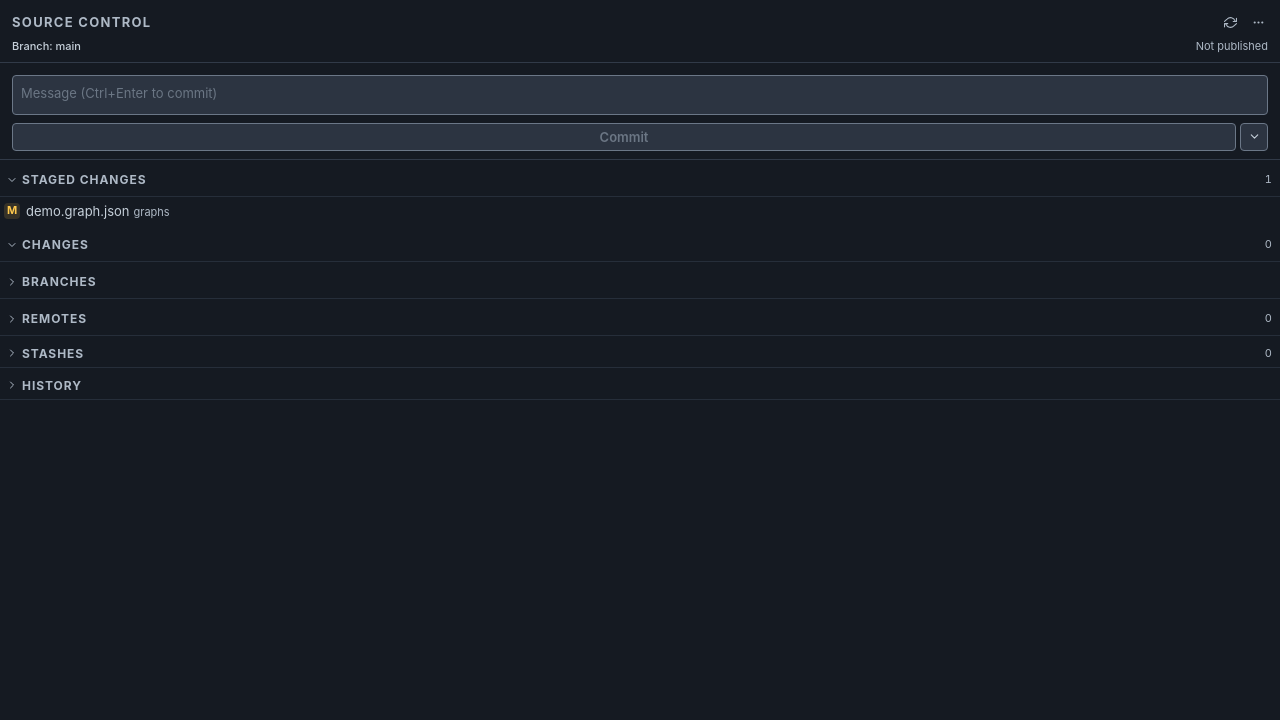
Source Control: refusals › opens the identity form, and saves only the half that was filled in
The image size is (1280, 720).
Type "first commit" into the text box with placeholder "Message (Ctrl+Enter to commit)" at (640, 95), box x1=12 y1=75 x2=1268 y2=115
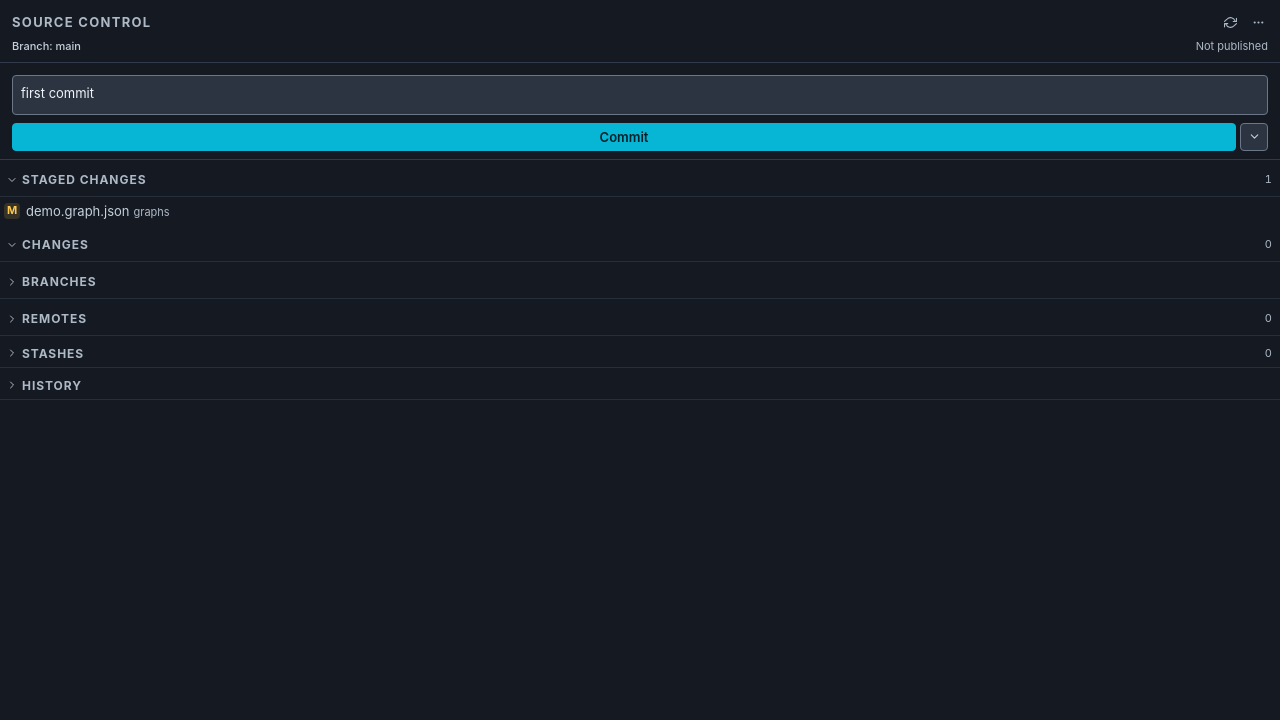
Click the button "Commit" at (624, 137), box x1=12 y1=123 x2=1236 y2=151
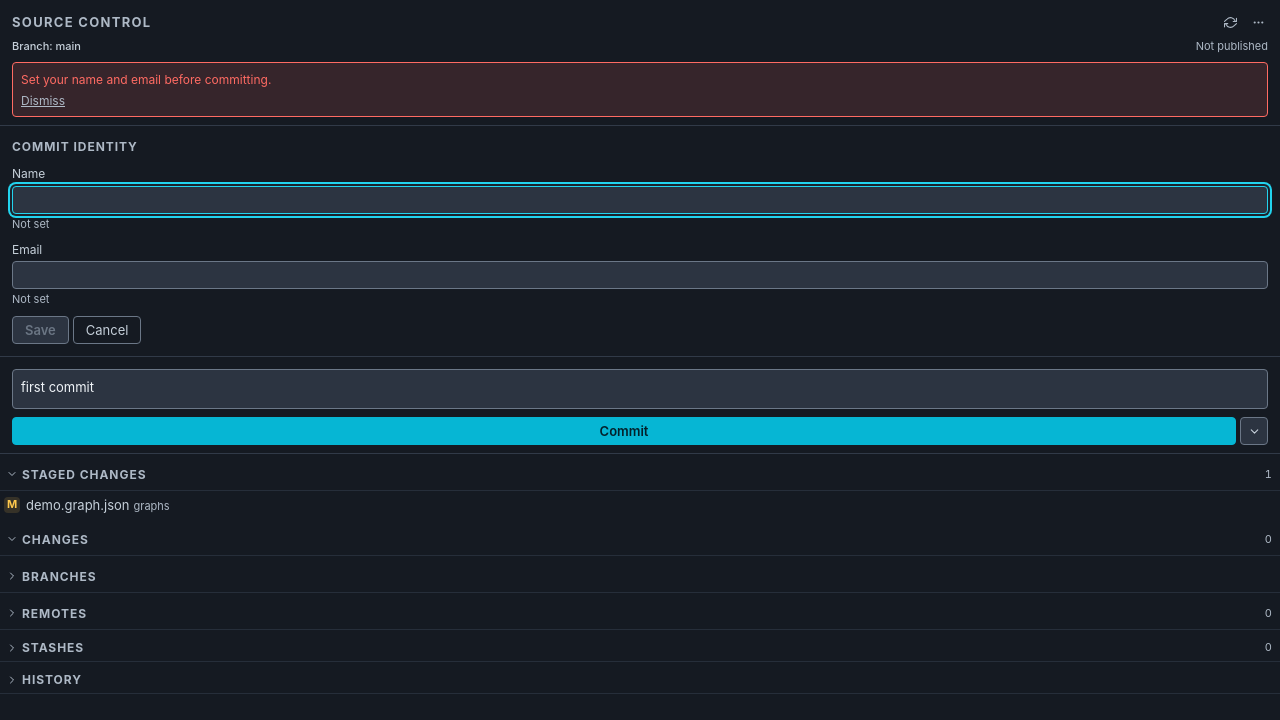
Expected: the text "Commit identity" is shown, x1=12 y1=140 x2=138 y2=154
Expected: the message reads "Set your name and email before committing.", x1=21 y1=72 x2=271 y2=87
Type "ada@example.com" into the field labelled "Email" at (640, 275), box x1=12 y1=261 x2=1268 y2=289
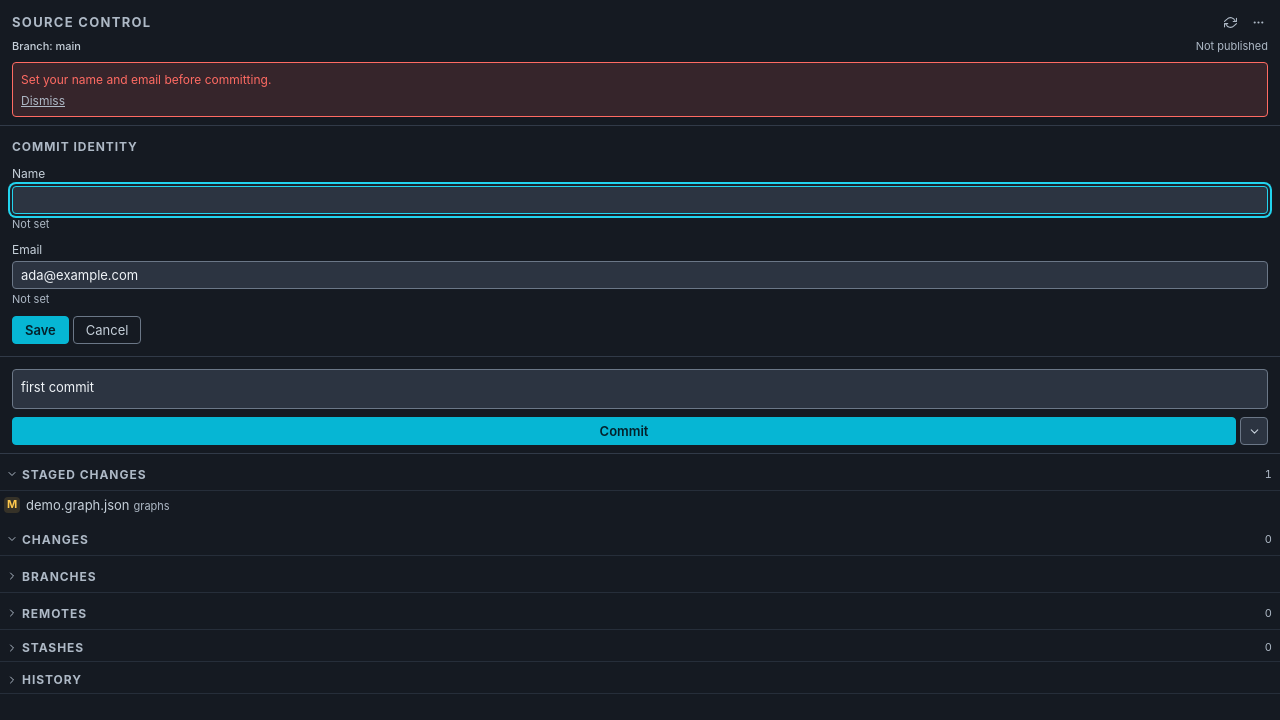
Click the button "Save" at (40, 330), box x1=12 y1=316 x2=69 y2=344
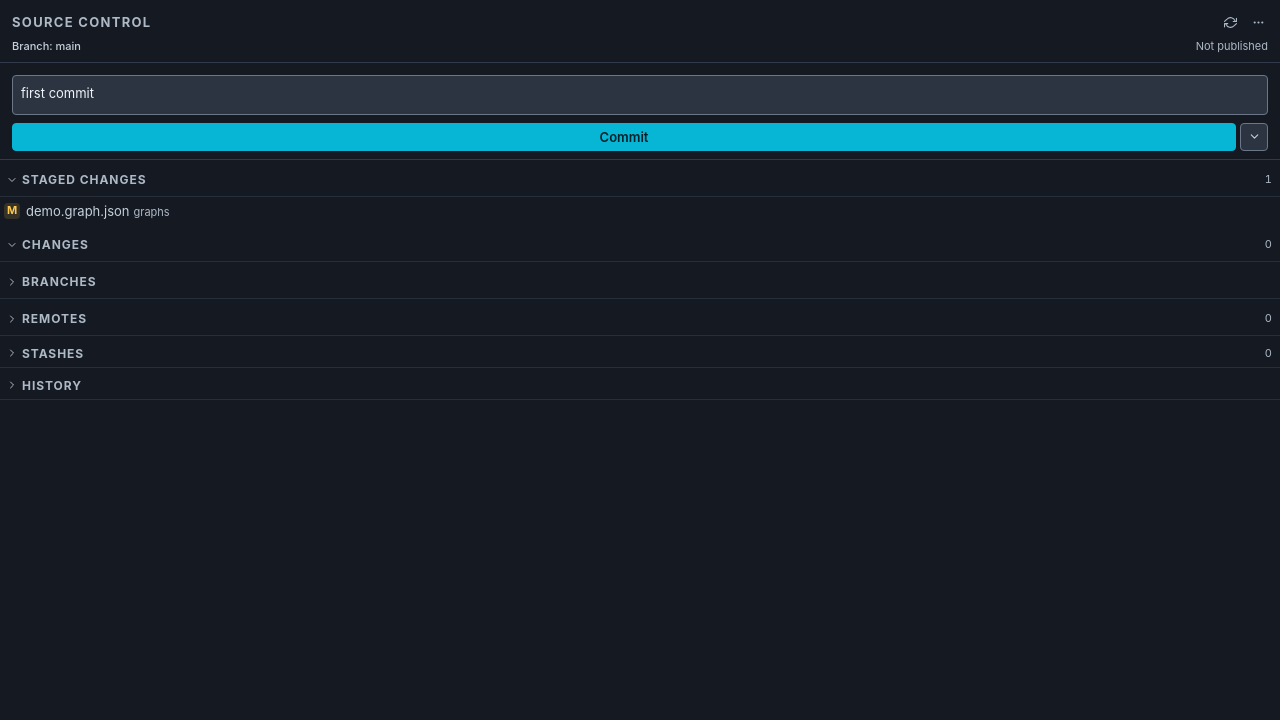
Expected: the text "Commit identity" is gone
